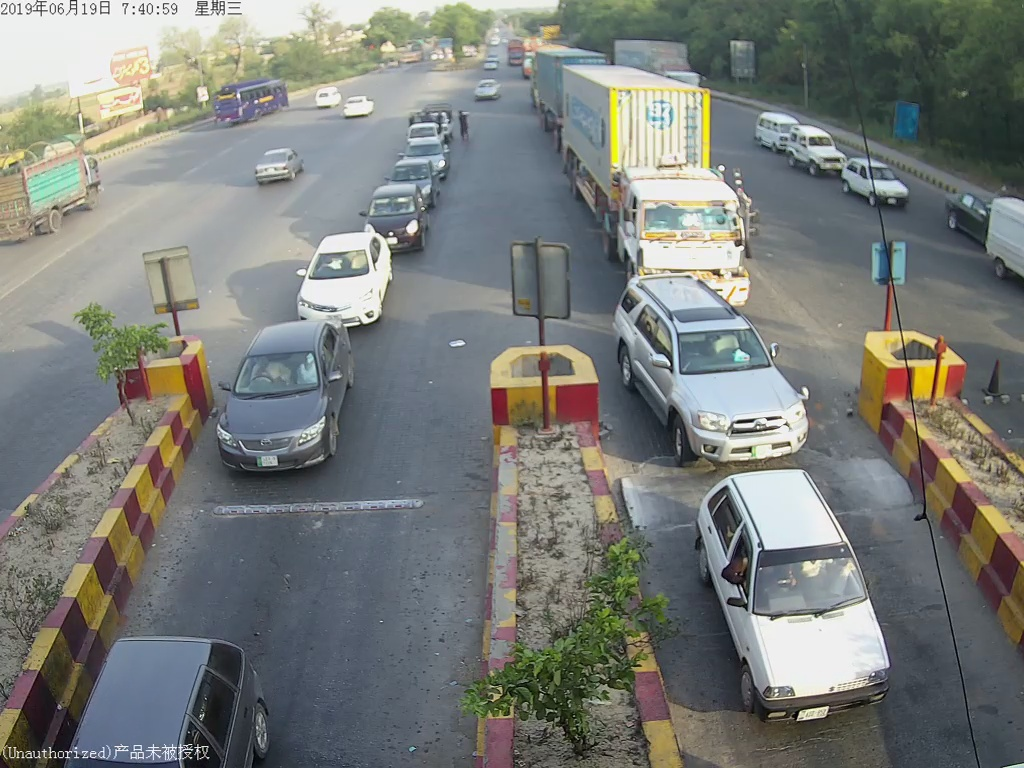Cat-1: (687, 471, 904, 715), (612, 278, 821, 463), (216, 320, 350, 463), (295, 232, 390, 319), (367, 188, 426, 242)
Cat-5: (561, 73, 760, 278)
